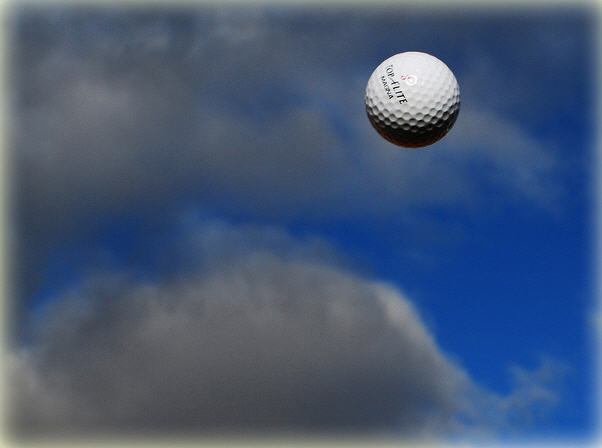golfball: (362, 49, 464, 150)
